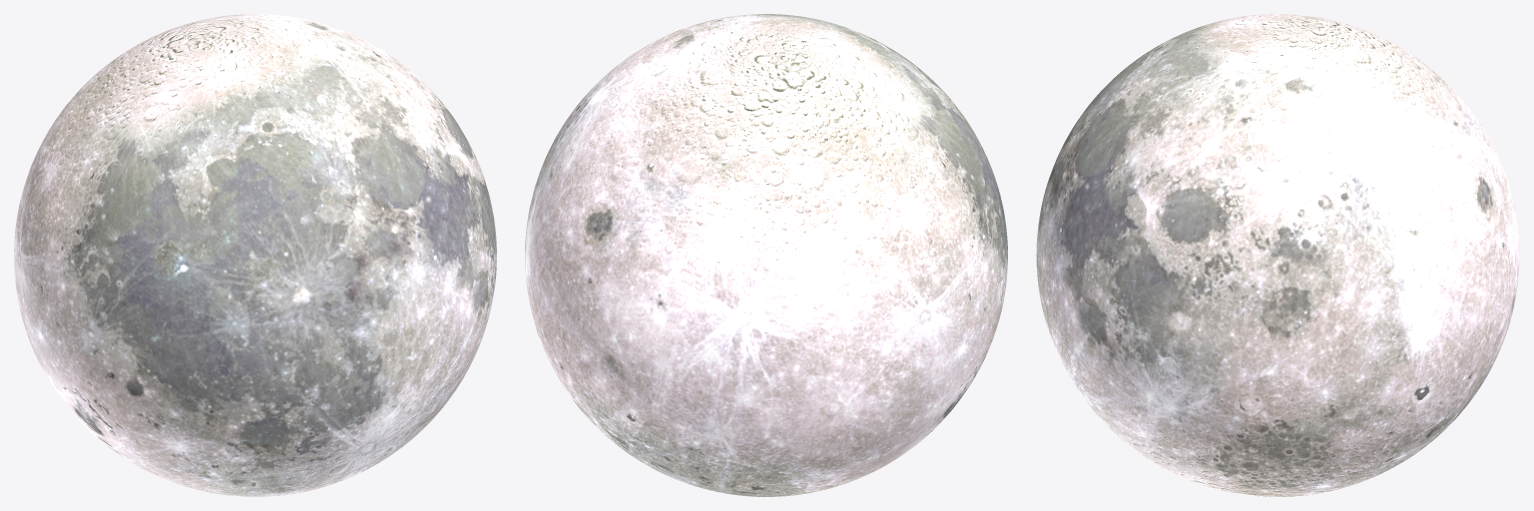
File: moon.glb
3 views of the same model, side by side, from view 1: azimuth 30°, elevation 25°; view 2: azimuth 150°, elevation 25°; view 3: azimuth 270°, elevation 25° (orthographic).
Parts seen in each view (by area): view 1: Object_3; view 2: Object_3; view 3: Object_3.
Part boxes in pixels (box(x1,y1,x2,y2)): Object_3: box(14, 14, 496, 496); Object_3: box(525, 14, 1007, 496); Object_3: box(1036, 14, 1519, 496).
Size of the model in its own units: 0.8657 by 0.8657 by 0.8657.
Materials: 1 (1 with a texture image).
